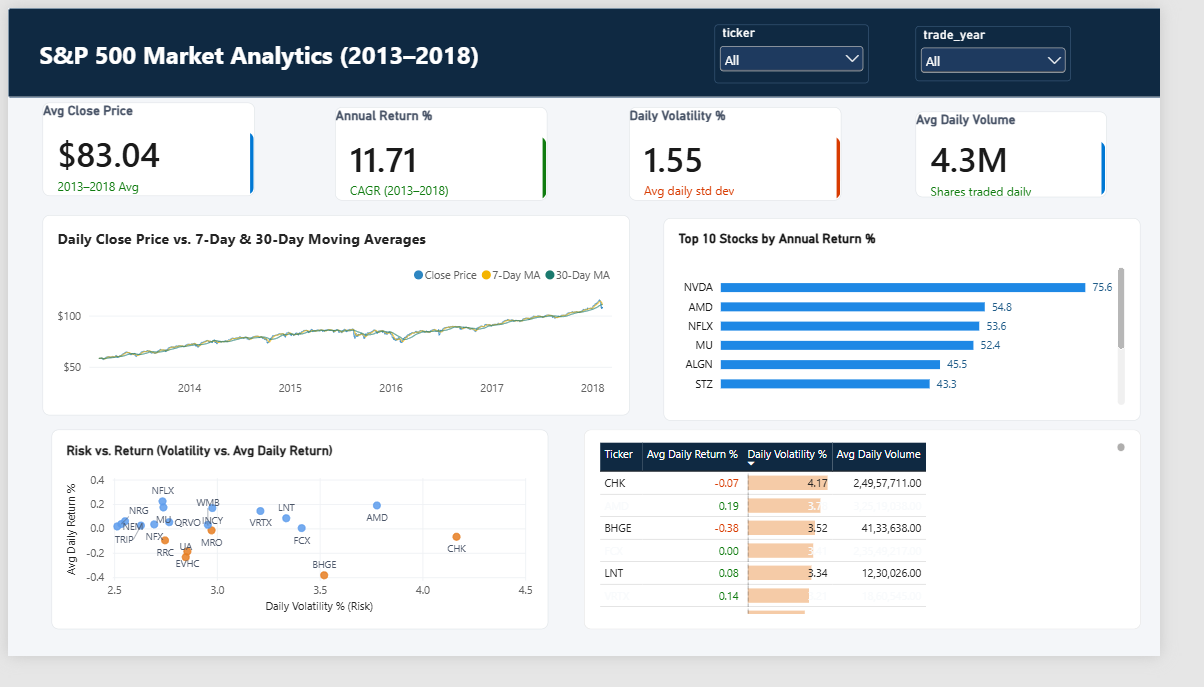

Layout of this report page (visuals, bound fields, positions):
{"tool":"powerbi","page":{"name":"Page 1","canvas":[1280,720],"ordinal":0},"visuals":[{"type":"shape","box":[0,0,1916.7,100],"z":0},{"type":"textbox","box":[35.7,14.3,638.6,60],"z":1000},{"type":"slicer","fields":{"Values":["public stocks.ticker"]},"box":[785,17.5,171.2,65],"z":2000},{"type":"slicer","fields":{"Values":["public vw_stock_yearly_performance.trade_year"]},"box":[1007.5,20,172.5,61.2],"z":3000},{"type":"cardVisual","title":"Avg Close Price","fields":{"Data":["Avg(public vw_stock_daily_trends.close_price)"]},"box":[38.3,108.3,236,104],"z":4000},{"type":"cardVisual","title":"Annual Return %","fields":{"Data":["Avg(public vw_stock_yearly_performance.annual_return_pct)"]},"box":[374.4,108.3,236,104],"z":5000},{"type":"cardVisual","title":"Daily Volatility %","fields":{"Data":["Avg(public vw_stock_volatility_summary.daily_volatility_pct)"]},"box":[710.6,108.3,236,104],"z":6000},{"type":"cardVisual","title":"Avg Daily Volume","fields":{"Data":["Avg(public vw_stock_volatility_summary.avg_daily_volume)"]},"box":[1046.7,108.3,211.7,108.3],"z":7000},{"type":"lineChart","title":"Daily Close Price vs. 7-Day & 30-Day Moving Averages","fields":{"Category":["public vw_stock_daily_trends.trade_date"],"Y":["Avg(public vw_stock_daily_trends.close_price)","Avg(public vw_stock_daily_trends.ma_7_day)","Avg(public vw_stock_daily_trends.ma_30_day)"]},"box":[38.9,229.8,572.5,222],"z":8000},{"type":"clusteredBarChart","title":"Top 10 Stocks by Annual Return %","fields":{"Category":["public vw_stock_yearly_performance.ticker"],"Y":["Avg(public vw_stock_yearly_performance.annual_return_pct)"]},"box":[638.7,233.7,619.2,222],"z":9000},{"type":"scatterChart","title":"Risk vs. Return (Volatility vs. Avg Daily Return)","fields":{"Category":["public vw_stock_volatility_summary.ticker"],"X":["Avg(public vw_stock_volatility_summary.daily_volatility_pct)"],"Y":["Avg(public vw_stock_volatility_summary.avg_daily_return_pct)"]},"box":[46.7,467.4,740,222],"z":10000},{"type":"tableEx","title":"Stock Risk & Volatility Summary","fields":{"Values":["public vw_stock_volatility_summary.ticker","Avg(public vw_stock_volatility_summary.avg_daily_return_pct)","Avg(public vw_stock_volatility_summary.daily_volatility_pct)","Avg(public vw_stock_volatility_summary.avg_daily_volume)"]},"box":[829.6,467.4,428.4,225.9],"z":11000}]}

Visuals, with their boxes in screenshot pixels (x1, y1, x2, y2), scaled from the page's 1280x720 canvas onto the 1204x687 screenshot:
shape: left=0, top=0, right=1203, bottom=95
textbox: left=34, top=14, right=634, bottom=71
slicer - public stocks.ticker: left=738, top=17, right=899, bottom=79
slicer - public vw_stock_yearly_performance.trade_year: left=948, top=19, right=1110, bottom=77
"Avg Close Price" cardVisual: left=36, top=103, right=258, bottom=203
"Annual Return %" cardVisual: left=352, top=103, right=574, bottom=203
"Daily Volatility %" cardVisual: left=668, top=103, right=890, bottom=203
"Avg Daily Volume" cardVisual: left=985, top=103, right=1184, bottom=207
"Daily Close Price vs. 7-Day & 30-Day Moving Averages" lineChart: left=37, top=219, right=575, bottom=431
"Top 10 Stocks by Annual Return %" clusteredBarChart: left=601, top=223, right=1183, bottom=435
"Risk vs. Return (Volatility vs. Avg Daily Return)" scatterChart: left=44, top=446, right=740, bottom=658
"Stock Risk & Volatility Summary" tableEx: left=780, top=446, right=1183, bottom=662
